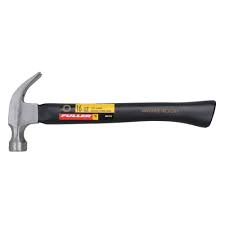hammer: (7, 72, 217, 153)
